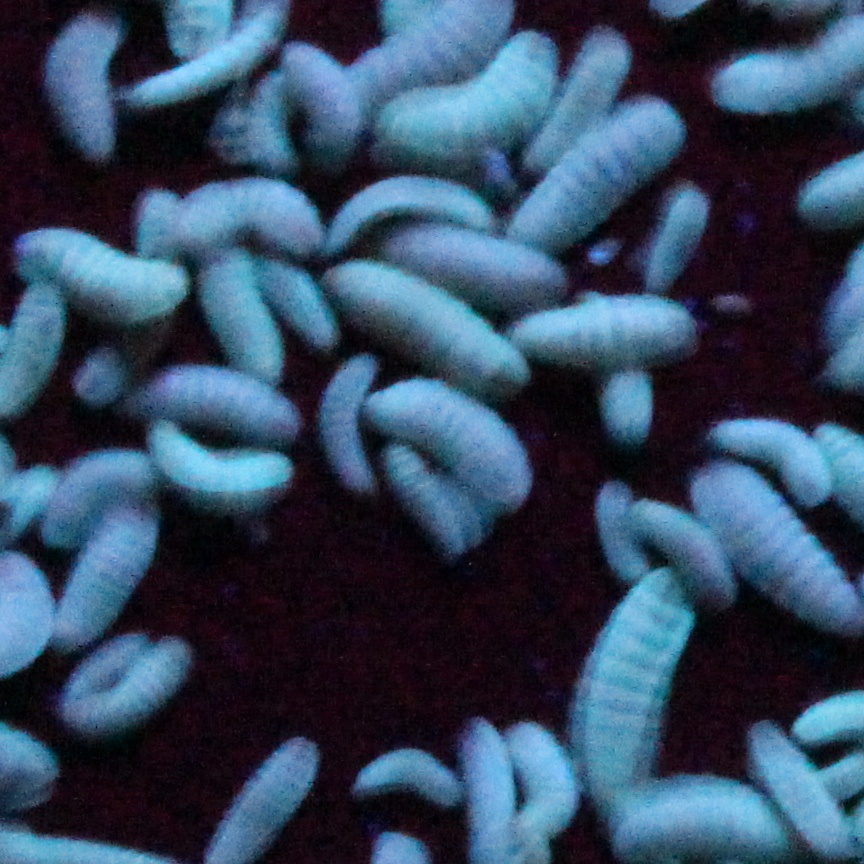larve: (306, 253, 534, 396), (566, 577, 692, 789), (374, 37, 568, 157), (4, 212, 189, 332), (105, 351, 314, 456), (518, 104, 680, 237), (375, 367, 531, 503), (51, 495, 177, 654), (178, 154, 336, 269), (141, 420, 298, 520), (54, 628, 194, 739), (703, 406, 846, 509), (626, 495, 743, 604), (509, 300, 698, 366), (309, 349, 395, 494), (195, 248, 286, 378), (535, 9, 633, 125), (270, 45, 368, 157), (380, 443, 470, 561), (500, 716, 575, 856), (634, 177, 717, 297), (349, 740, 469, 817), (264, 250, 334, 351)
